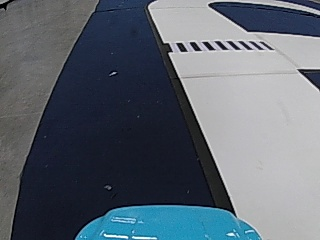CrossWalk: (165, 37, 271, 53)
